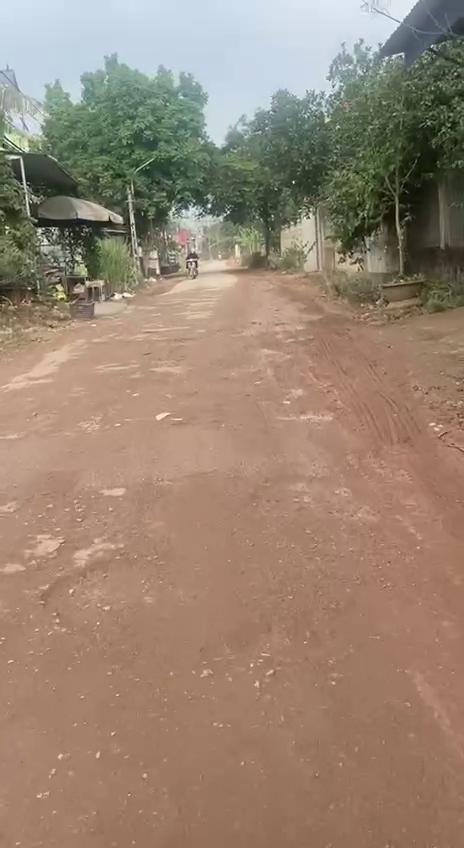pothole: (35, 550, 166, 642)
